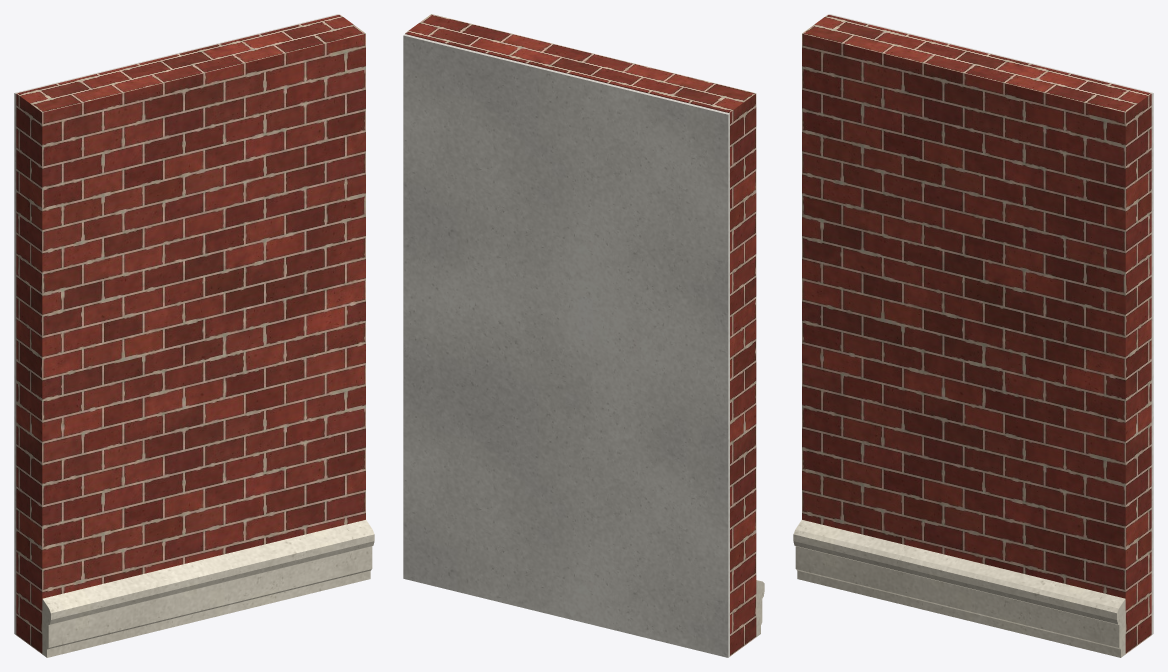
File: u1_wall_plain.glb
3 views of the same model, side by side, from view 1: azimuth 30°, elevation 25°; view 2: azimuth 150°, elevation 25°; view 3: azimuth 330°, elevation 25° (orthographic).
Visible parts, largest first — view 1: u1_wall_plain_brick, u1_wall_plain_trim, u1_wall_plain_plaster; view 2: u1_wall_plain_plaster, u1_wall_plain_brick; view 3: u1_wall_plain_brick, u1_wall_plain_trim, u1_wall_plain_plaster.
Part boxes in pixels (x1,y1,x2,y2): u1_wall_plain_brick: [16, 14, 365, 653]; u1_wall_plain_trim: [42, 520, 374, 657]; u1_wall_plain_plaster: [14, 14, 338, 634]; u1_wall_plain_plaster: [403, 34, 729, 657]; u1_wall_plain_brick: [405, 14, 756, 656]; u1_wall_plain_brick: [802, 14, 1151, 653]; u1_wall_plain_trim: [793, 520, 1125, 657]; u1_wall_plain_plaster: [829, 14, 1153, 634].
Size of the model in its own units: 2 by 3.2 by 0.39.
3 materials, 3 textured.
